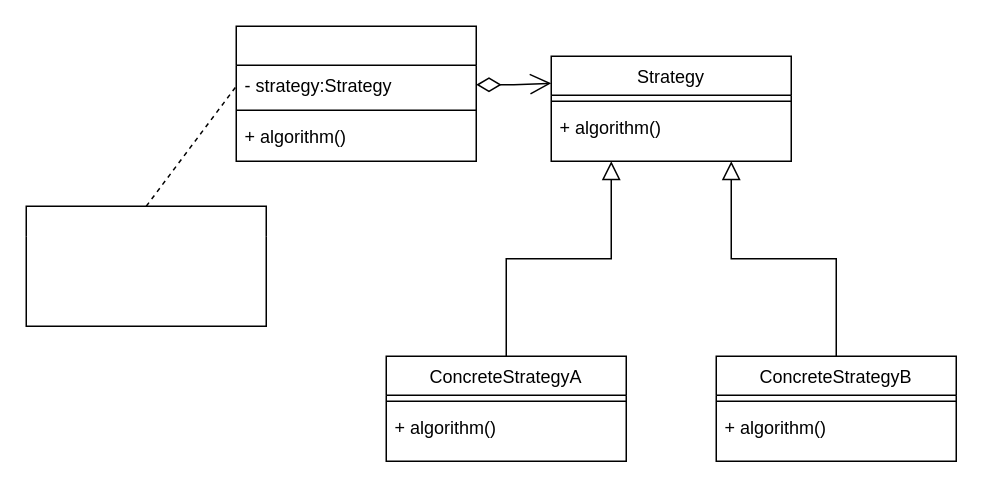
The diagram is 983 pixels wide and 488 high, and some of its shapes have lost their labels. Here are the shapes that lost their labels. From the top down, the box of each, then its label:
(235, 25, 476, 161): Context
(25, 205, 266, 326): strategy.algorithm()
